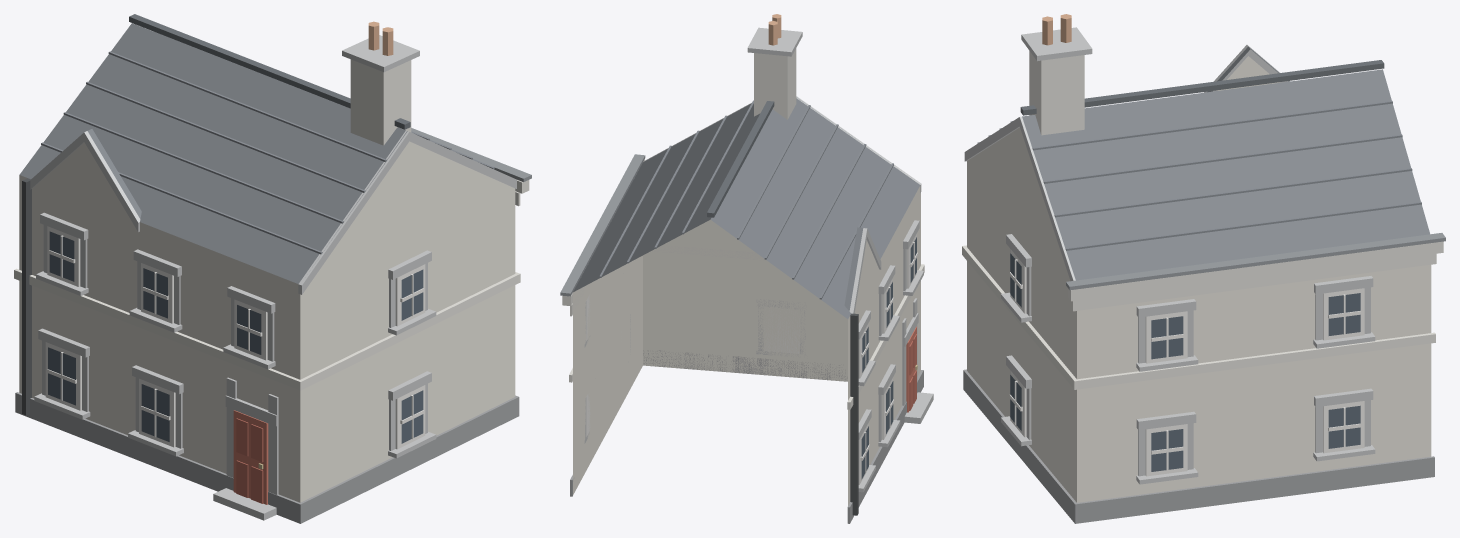
3 renders of one model, left to right at view 1: azimuth 30°, elevation 25°; view 2: azimuth 150°, elevation 25°; view 3: azimuth 270°, elevation 25°, orthographic. The views are drawn at different scales.
Visible parts, largest first — view 1: harl_cream, slate, stone_band, plinth, frame, string, chim_render, slate_lt, slate_dk, pipe, door_red_p, door_red (+9 smaller); view 2: harl_cream, slate, stone_band, slate_lt, frame, chim_render, plinth, lead, pipe, slate_dk, string, door_red_p; view 3: harl_cream, slate, string, stone_band, plinth, frame, slate_lt, chim_render, lead, slate_dk, window_glass_008, window_glass_010 (+3 smaller).
Part boxes in pixels (left/top/right/bottom): harl_cream: left=19, top=141, right=515, bottom=502; slate: left=19, top=23, right=407, bottom=283; stone_band: left=30, top=35, right=516, bottom=520; plinth: left=15, top=392, right=519, bottom=523; frame: left=45, top=226, right=425, bottom=449; string: left=14, top=180, right=529, bottom=390; chim_render: left=350, top=59, right=411, bottom=145; slate_lt: left=41, top=32, right=494, bottom=254; slate_dk: left=129, top=14, right=410, bottom=129; pipe: left=22, top=178, right=31, bottom=415; door_red_p: left=236, top=418, right=263, bottom=503; door_red: left=233, top=410, right=268, bottom=504; harl_cream: left=573, top=186, right=920, bottom=505; slate: left=573, top=97, right=920, bottom=318; stone_band: left=584, top=27, right=933, bottom=492; slate_lt: left=599, top=100, right=893, bottom=299; frame: left=586, top=233, right=917, bottom=484; chim_render: left=754, top=48, right=796, bottom=119; plinth: left=570, top=350, right=923, bottom=523; lead: left=560, top=154, right=645, bottom=296; pipe: left=850, top=313, right=858, bottom=515; slate_dk: left=707, top=101, right=774, bottom=217; string: left=562, top=159, right=924, bottom=409; door_red_p: left=909, top=334, right=916, bottom=410; harl_cream: left=967, top=56, right=1431, bottom=502; slate: left=1022, top=46, right=1429, bottom=280; string: left=962, top=241, right=1443, bottom=389; stone_band: left=964, top=27, right=1375, bottom=484; plinth: left=963, top=369, right=1434, bottom=523; frame: left=1009, top=249, right=1364, bottom=476; slate_lt: left=977, top=101, right=1421, bottom=250; chim_render: left=1029, top=51, right=1084, bottom=135; lead: left=1066, top=233, right=1445, bottom=290; slate_dk: left=1020, top=60, right=1384, bottom=115; window_glass_008: left=1151, top=429, right=1183, bottom=471; window_glass_010: left=1328, top=405, right=1360, bottom=448.
Size of the model in its own units: 9.33 by 10.01 by 10.11.
